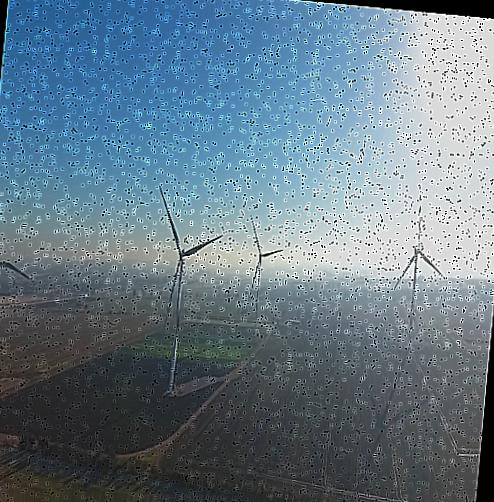wind turbine: (158, 183, 221, 390), (395, 210, 444, 322), (250, 216, 284, 324)
